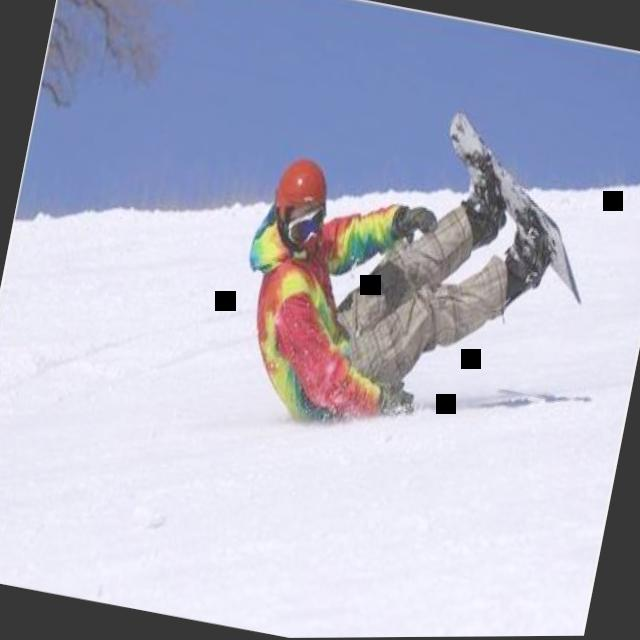Fall-Detected: (210, 74, 602, 465)
